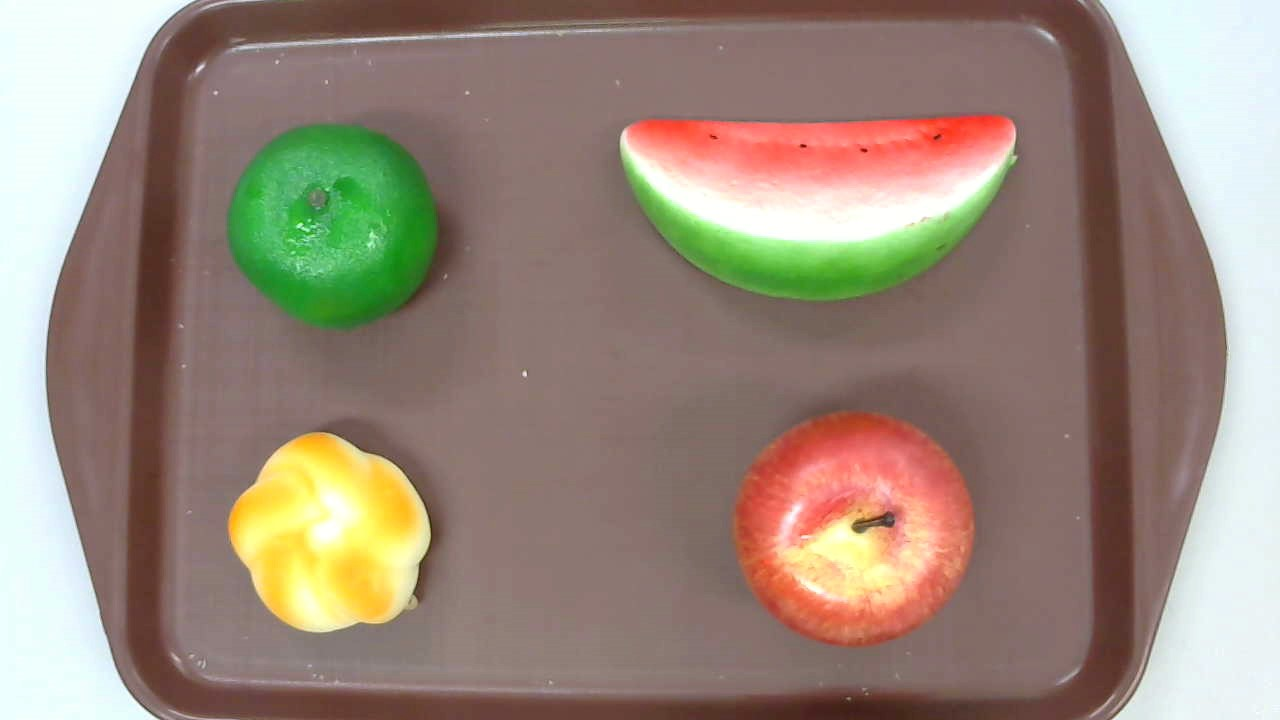green orange: (228, 124, 437, 330)
red apple: (730, 408, 974, 646)
twist bread: (228, 431, 432, 633)
watermelon: (618, 115, 1016, 300)
